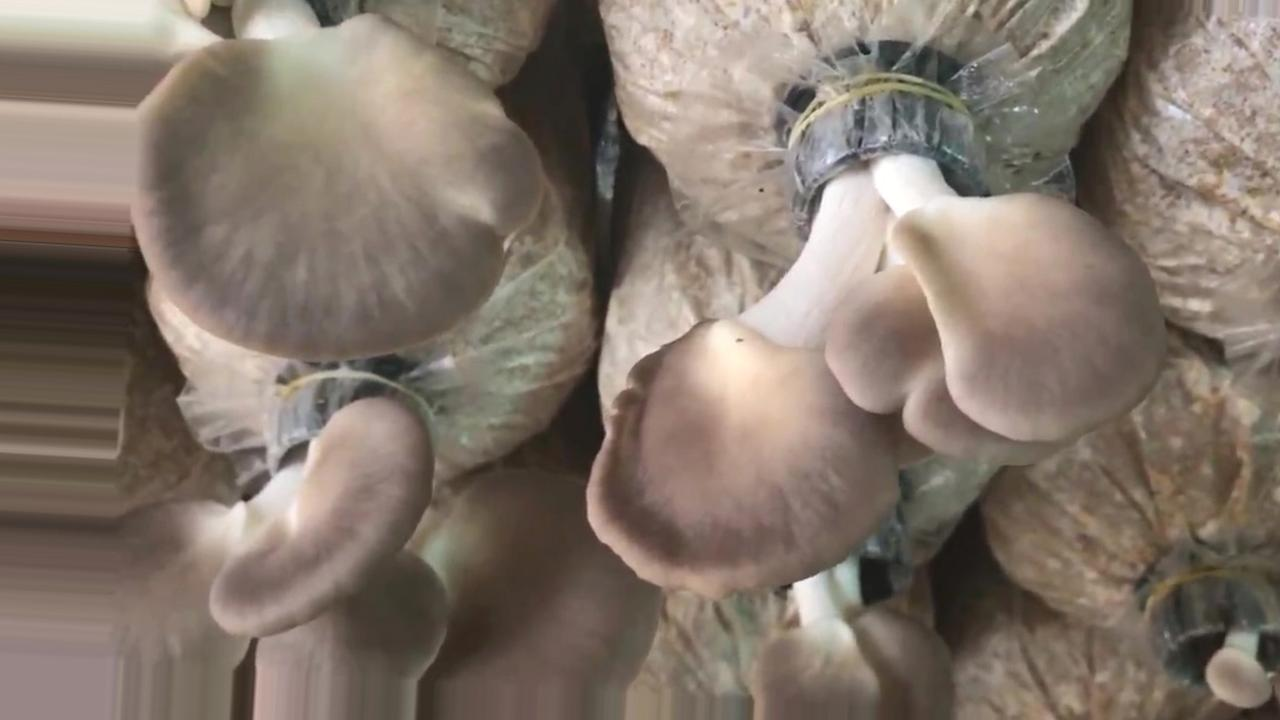nam: (586, 82, 1166, 592), (3, 369, 656, 719), (133, 1, 545, 367), (751, 506, 956, 720), (1142, 568, 1280, 705)
